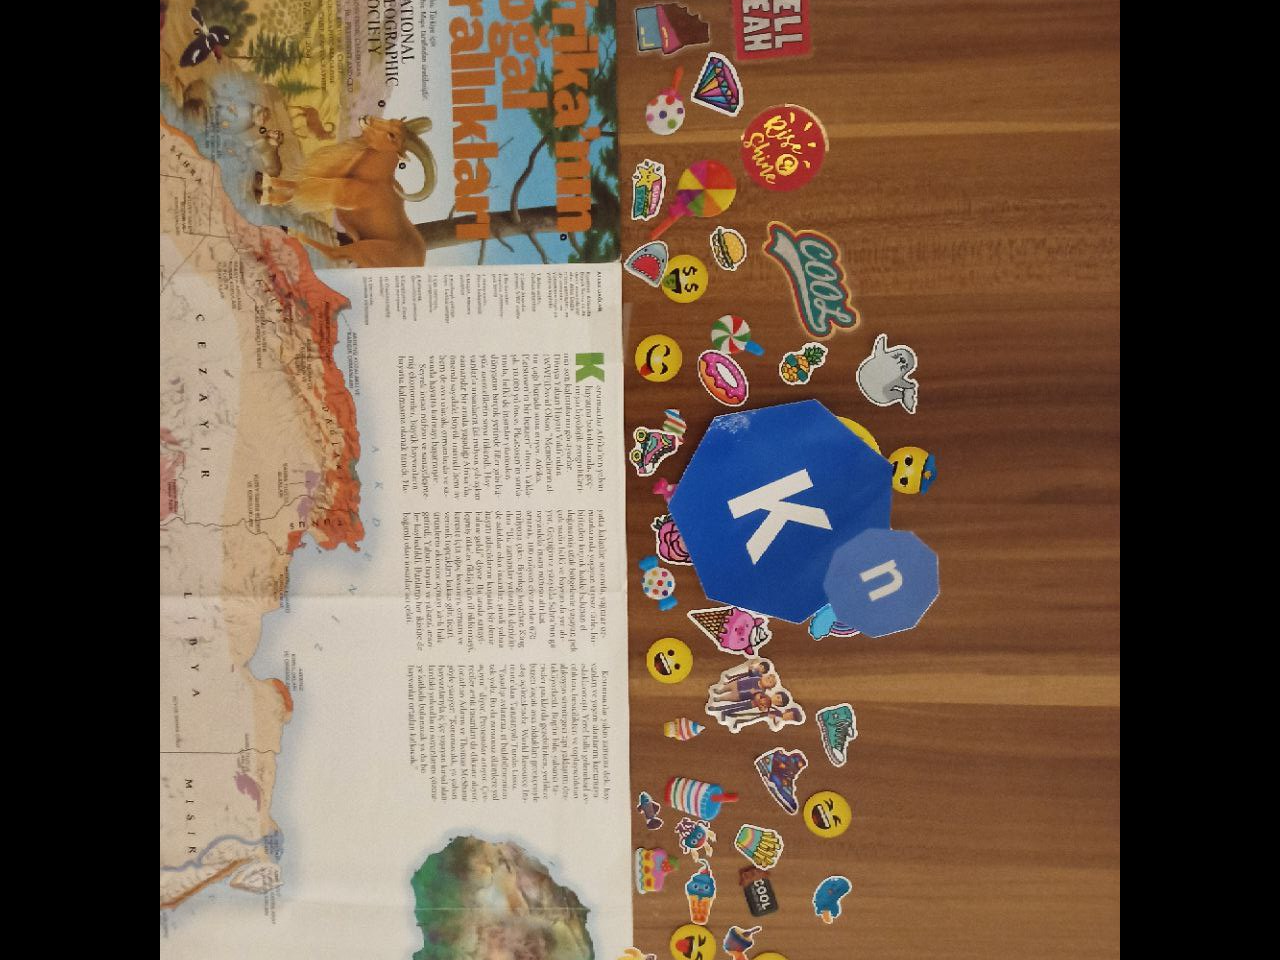knative: (667, 398, 941, 640)
